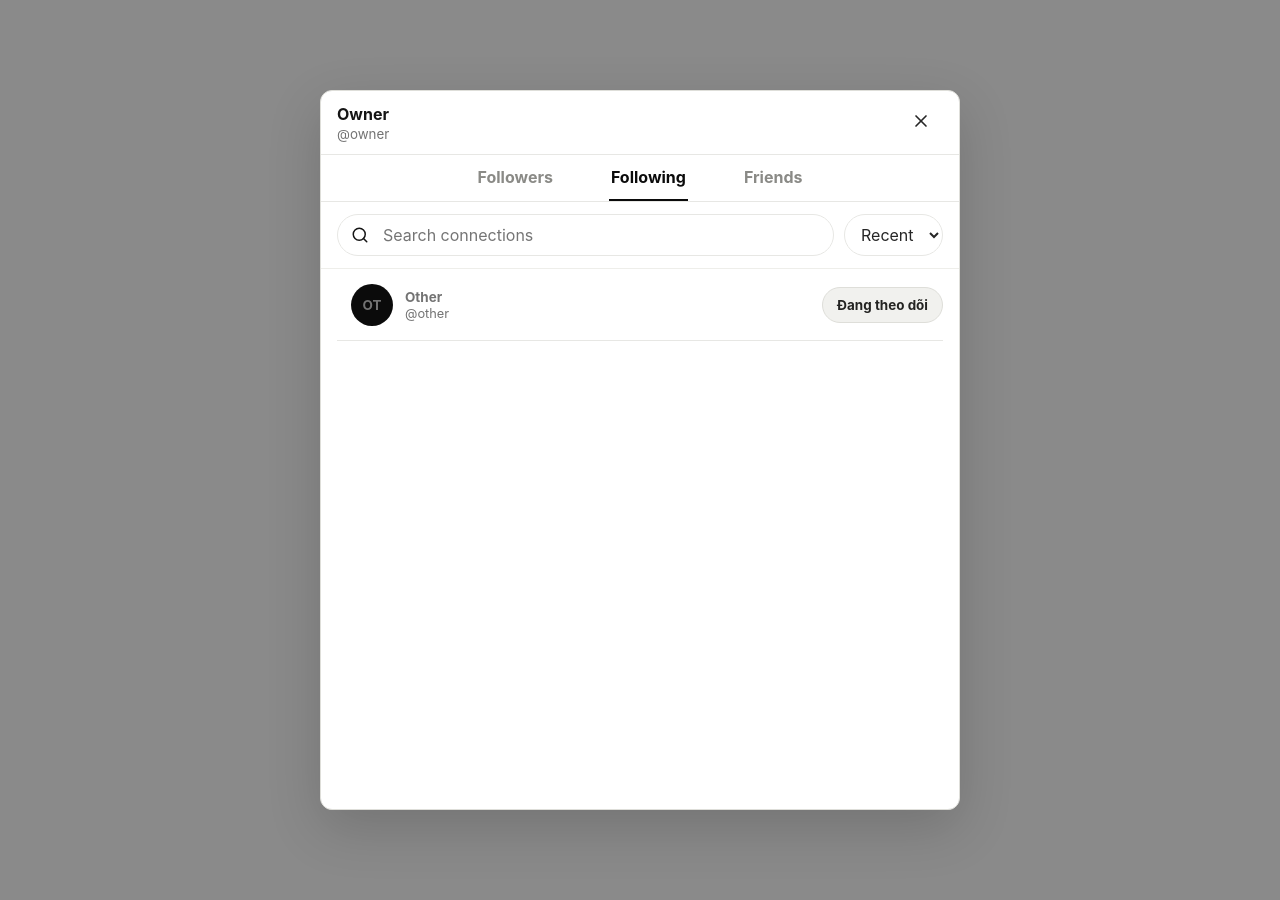
Scenario: keeps connections open when Escape cancels a removal confirmation
Check: the text "Other" is shown, box [405,288,442,304]
Click the button with class "relationship-action".
click(882, 304)  # box [822,286,943,322]
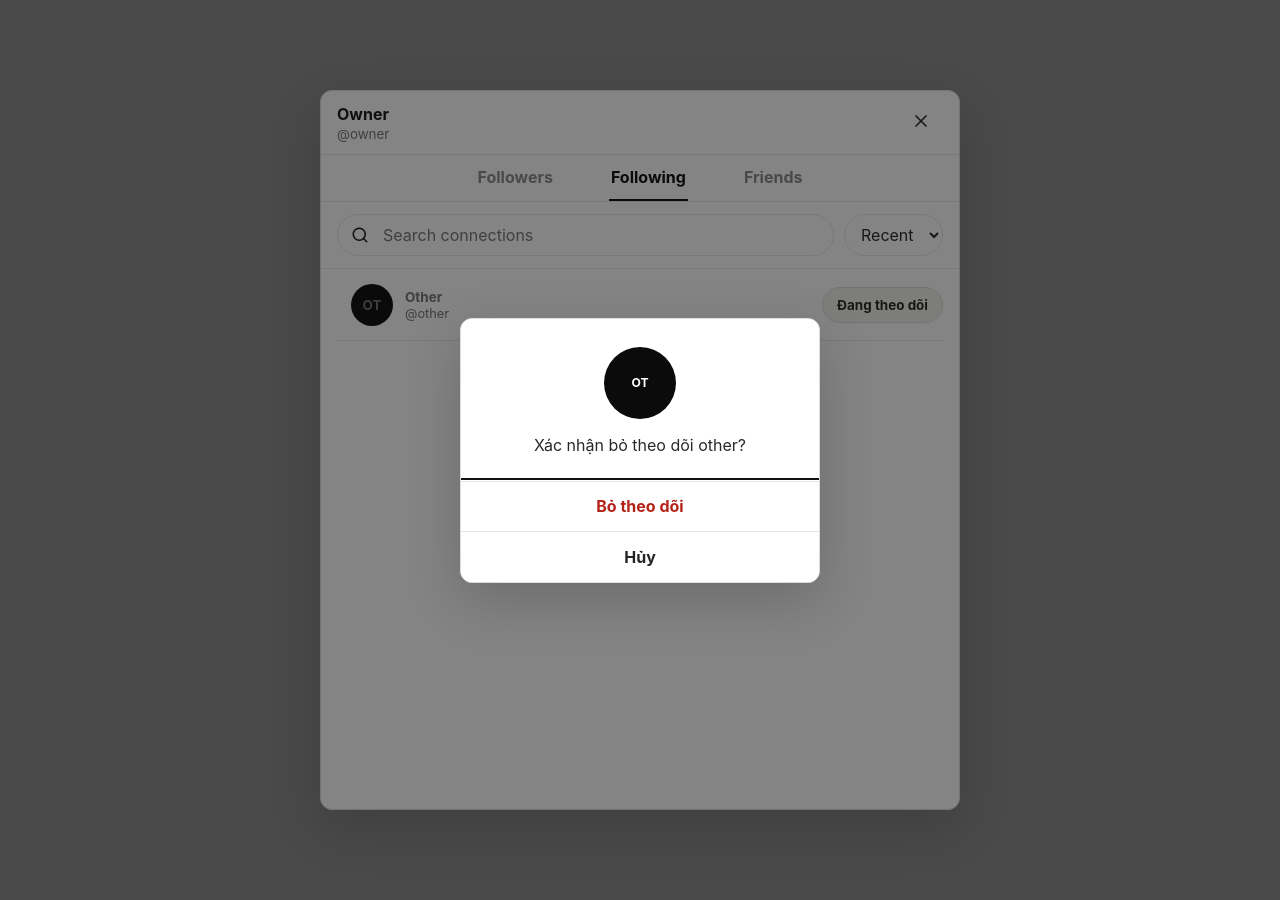
Press Escape in the dialog "OT Xác nhận bỏ theo dõi other? Bỏ theo dõi Hủy", box [460,318,820,582]
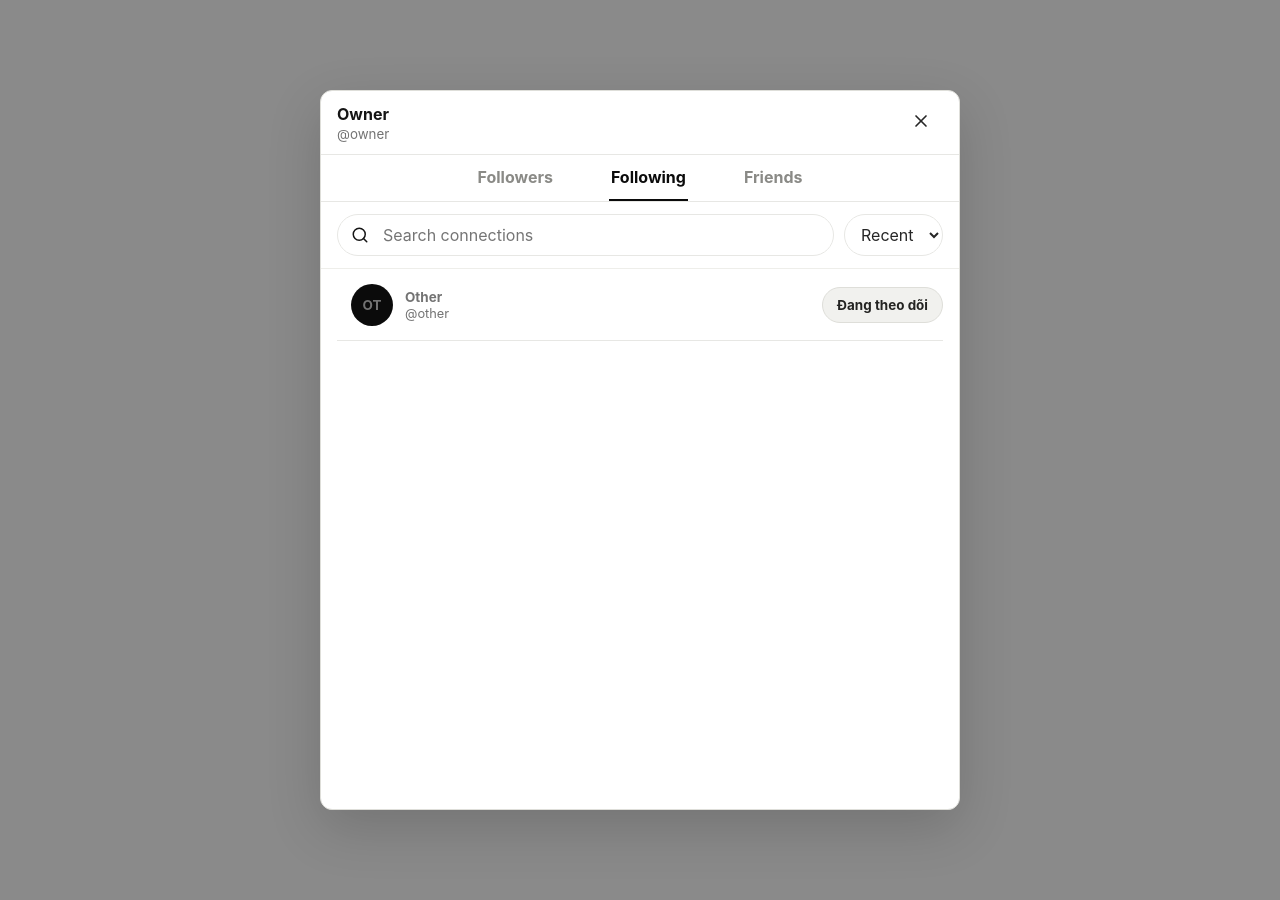
Check: the dialog "OT Xác nhận bỏ theo dõi other? Bỏ theo dõi Hủy" is gone
